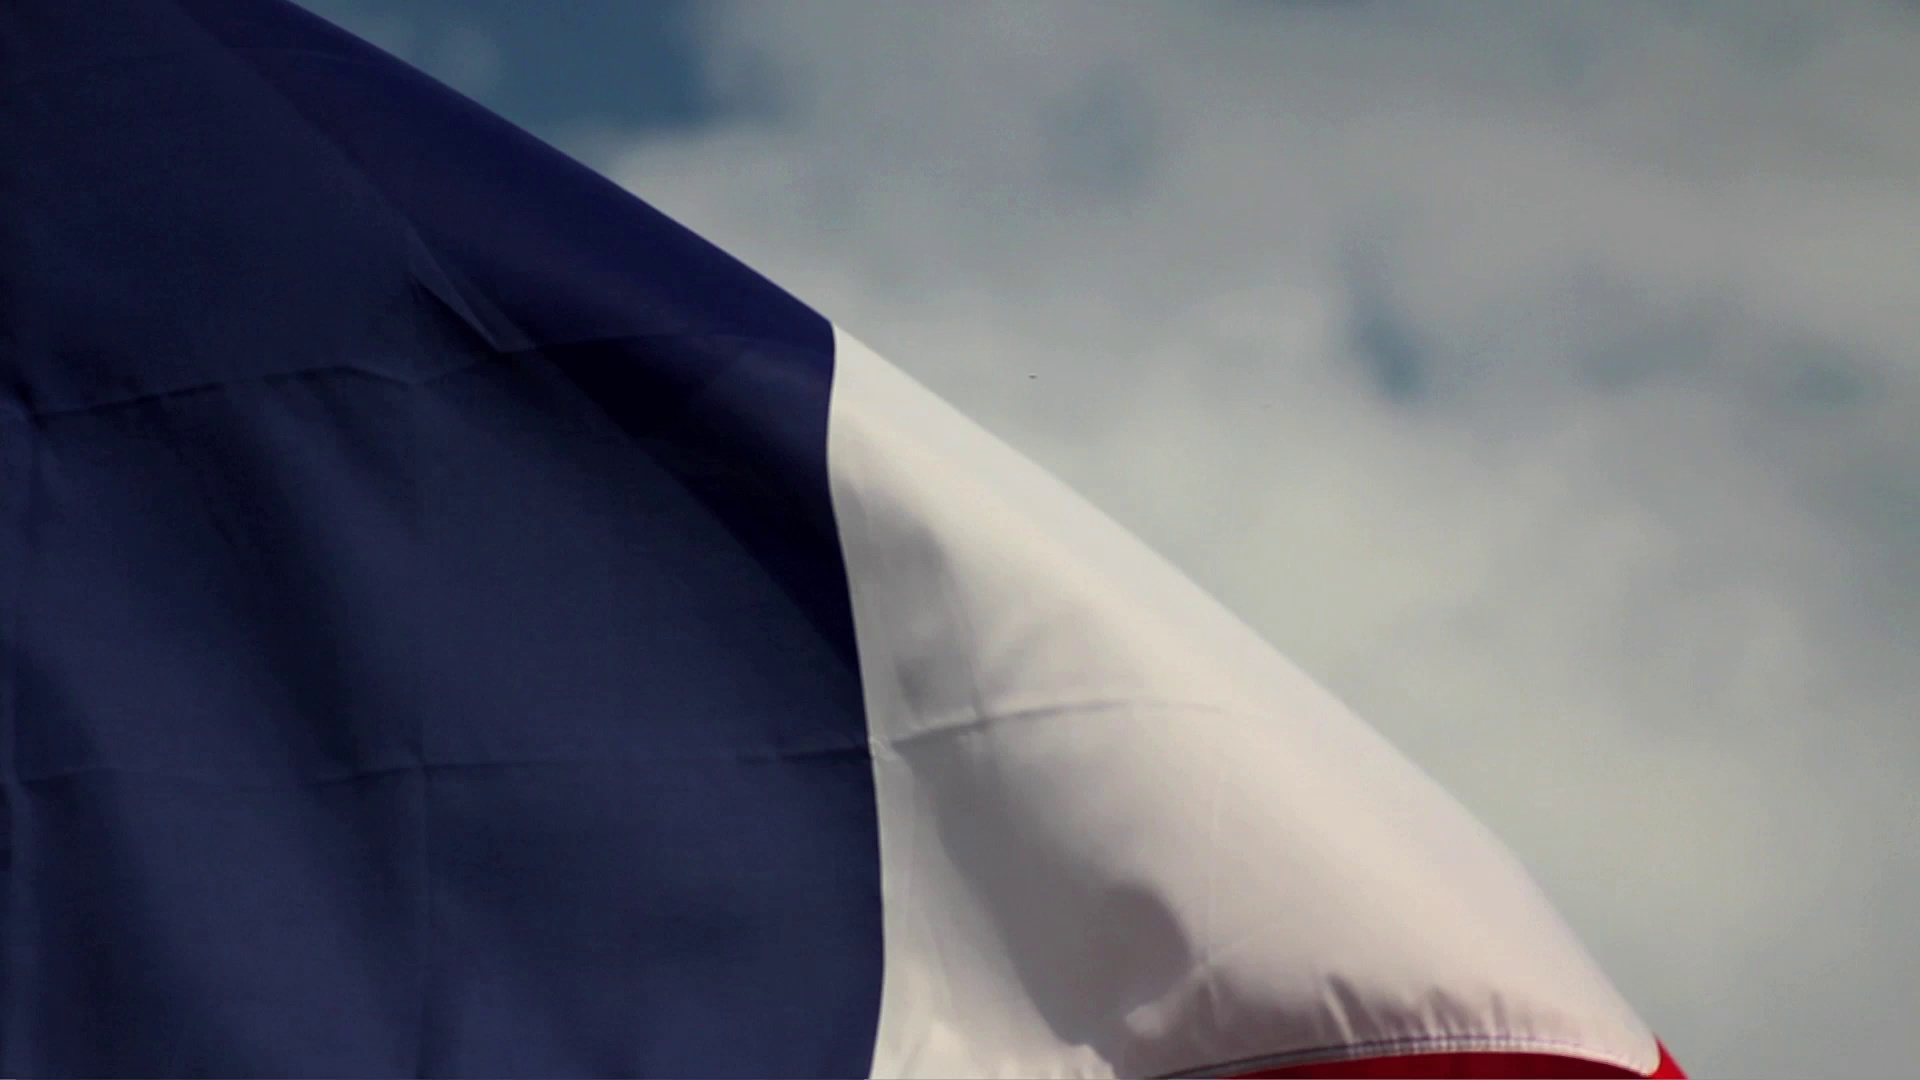French Flag: (1, 1, 1691, 1080)
